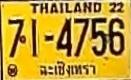1: (31, 18, 36, 56)
4: (56, 18, 71, 56)
5: (91, 17, 106, 55)
6: (108, 17, 124, 55)
7: (7, 18, 25, 57), (73, 17, 89, 56)
CCO: (37, 58, 99, 77)
